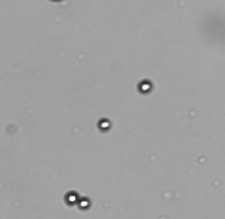Living Cell: (138, 79, 153, 93), (64, 190, 78, 205), (98, 118, 112, 131), (79, 196, 91, 211)
